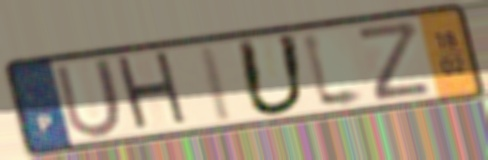H: (112, 48, 194, 136)
I: (195, 42, 237, 126)
L: (298, 26, 373, 114)
U: (233, 32, 311, 119), (51, 55, 126, 141)
Z: (353, 18, 435, 104)
